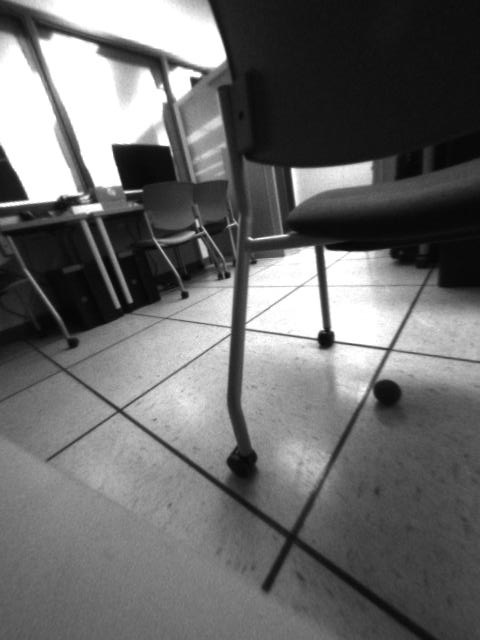dogtoy: (367, 374, 411, 413)
